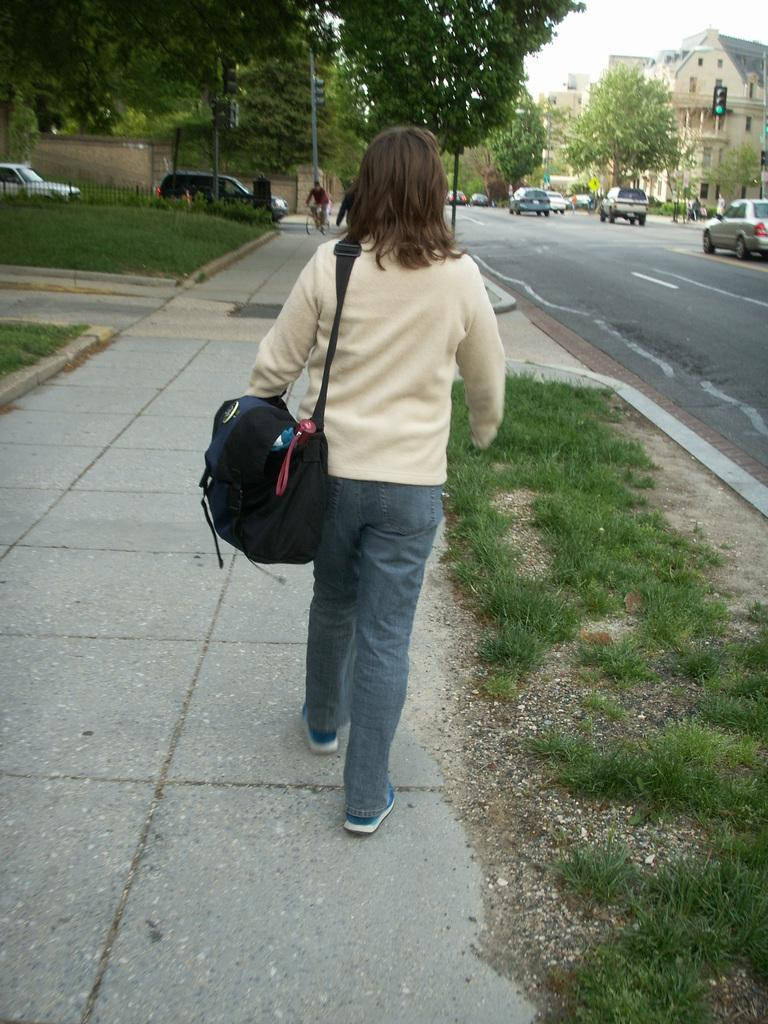Luggage-and-bags: (199, 231, 356, 563)
